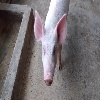heo: (32, 9, 69, 87)
